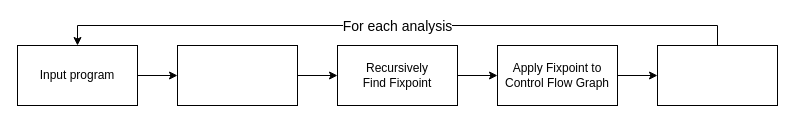
The diagram is 795 pixels wide and 123 high, and some of its shapes have lost their labels. The centre of each missing label's shape, as x and y in pixels:
"Generate Control Flow Graph" belongs at point 237,75.
"Output Program" belongs at point 717,75.
